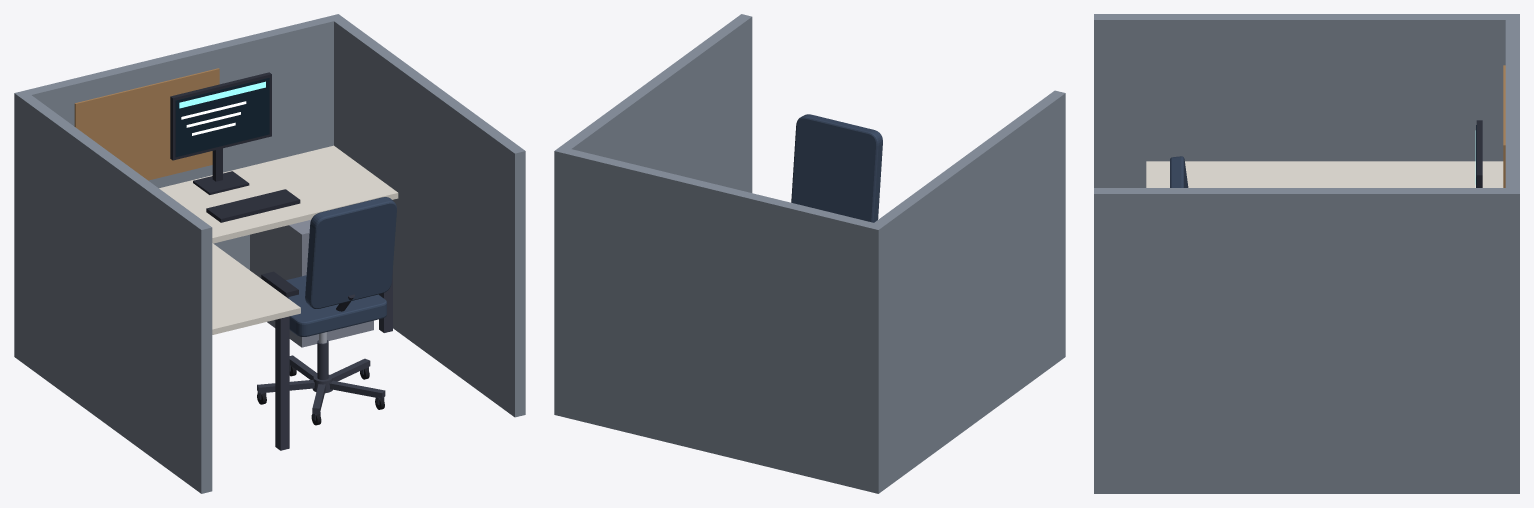
3 renders of one model, left to right at view 1: azimuth 30°, elevation 25°; view 2: azimuth 150°, elevation 25°; view 3: azimuth 270°, elevation 25°, orthographic. The views are drawn at different scales.
Parts seen in each view (by area): view 1: cubicle_fabric, laminate, chair_fabric, cork, dark_steel, plastic_dark, monitor_screen, locker_grey, display_white, pump_screen; view 2: cubicle_fabric, chair_fabric; view 3: cubicle_fabric, laminate, chair_fabric, plastic_dark.
Boxes of the visible parts, x1=… form: cubicle_fabric: x1=14, y1=14, x2=525, y2=493; laminate: x1=159, y1=145, x2=398, y2=334; chair_fabric: x1=286, y1=197, x2=396, y2=336; cork: x1=74, y1=68, x2=219, y2=180; dark_steel: x1=257, y1=200, x2=392, y2=450; plastic_dark: x1=170, y1=72, x2=354, y2=311; monitor_screen: x1=175, y1=78, x2=269, y2=157; locker_grey: x1=250, y1=220, x2=373, y2=347; display_white: x1=181, y1=101, x2=246, y2=135; pump_screen: x1=179, y1=81, x2=265, y2=108; cubicle_fabric: x1=554, y1=14, x2=1065, y2=493; chair_fabric: x1=791, y1=114, x2=882, y2=222; cubicle_fabric: x1=1094, y1=14, x2=1519, y2=493; laminate: x1=1146, y1=161, x2=1503, y2=187; chair_fabric: x1=1170, y1=156, x2=1188, y2=187; plastic_dark: x1=1476, y1=120, x2=1482, y2=187.
Size of the model in its own units: 1.8 by 1.4 by 1.8.
